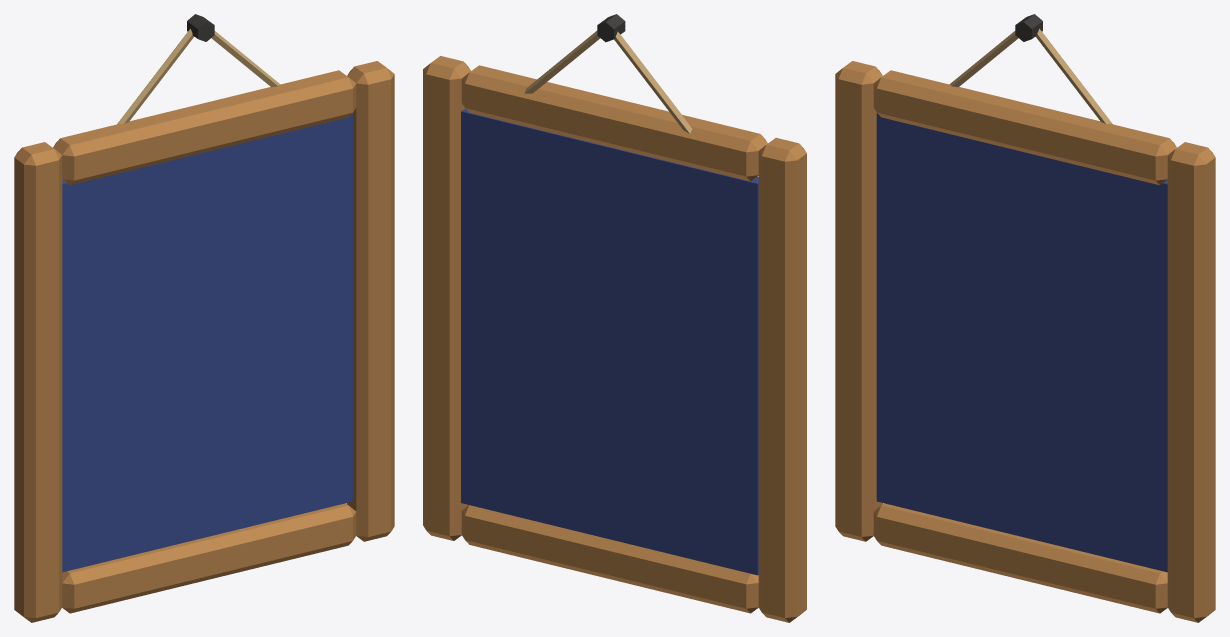
Rendered from wall_poster.glb.
3 views of the same model, side by side, from view 1: azimuth 30°, elevation 25°; view 2: azimuth 150°, elevation 25°; view 3: azimuth 330°, elevation 25° (orthographic).
Visible parts, largest first — view 1: wall_poster; view 2: wall_poster; view 3: wall_poster.
Part boxes in pixels (left/top/right/bottom): wall_poster: left=14, top=14, right=394, bottom=622; wall_poster: left=423, top=14, right=806, bottom=622; wall_poster: left=835, top=14, right=1215, bottom=622.
Size of the model in its own units: 0.58 by 0.83 by 0.05.
